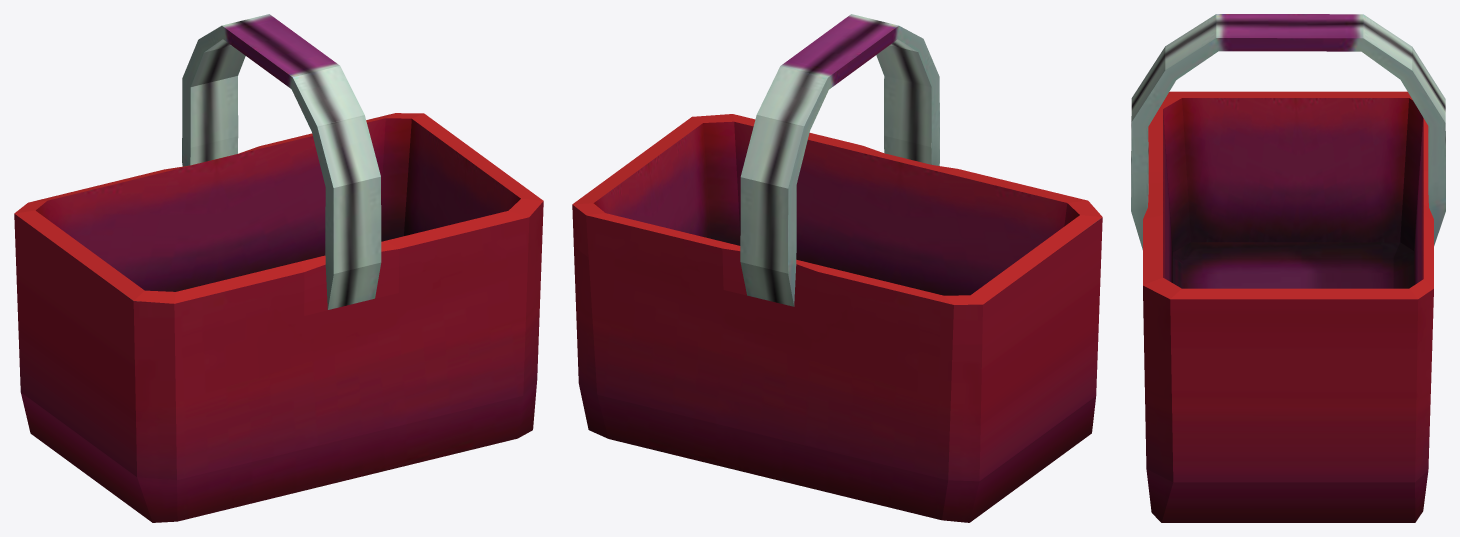
The model's file is shopping_bag.glb.
The picture shows the model from 3 angles, left to right: view 1: azimuth 30°, elevation 25°; view 2: azimuth 150°, elevation 25°; view 3: azimuth 270°, elevation 25°; orthographic projection. The views are drawn at different scales.
Parts seen in each view (by area): view 1: Object_2; view 2: Object_2; view 3: Object_2.
Part boxes in pixels (box(x1,y1,x2,y2)): Object_2: box(14, 14, 543, 522); Object_2: box(572, 14, 1102, 522); Object_2: box(1131, 14, 1445, 522).
Size of the model in its own units: 3.41 by 3.07 by 2.19.
Materials: 1 (1 with a texture image).
